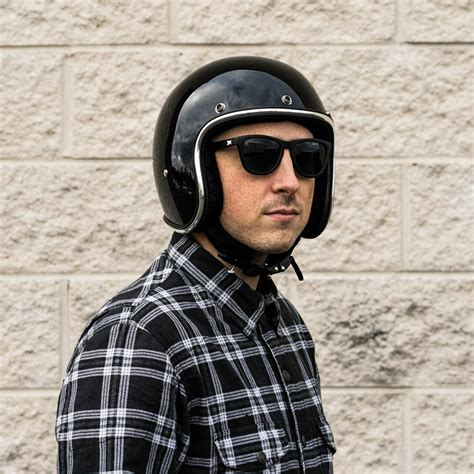com_capacete: (150, 54, 337, 285)
